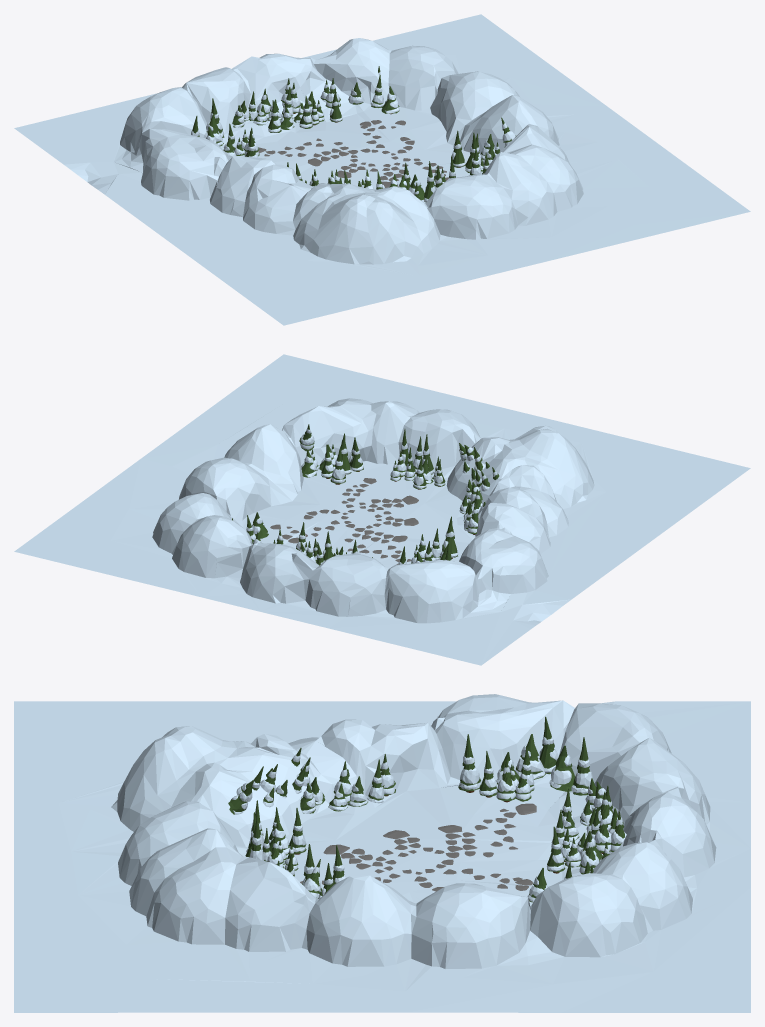
The model's file is environment.glb.
3 views of the same model, one above another, from view 1: azimuth 30°, elevation 25°; view 2: azimuth 150°, elevation 25°; view 3: azimuth 270°, elevation 25° (orthographic). The views are drawn at different scales.
Visible parts, largest first — view 1: environment; view 2: environment; view 3: environment.
Boxes of the visible parts, x1,y1,x2,y2 form: environment: [14, 14, 750, 325]; environment: [14, 354, 750, 665]; environment: [14, 694, 750, 1012].
Bounding box in the file's own units: 66.95 × 7.53 × 66.95.
